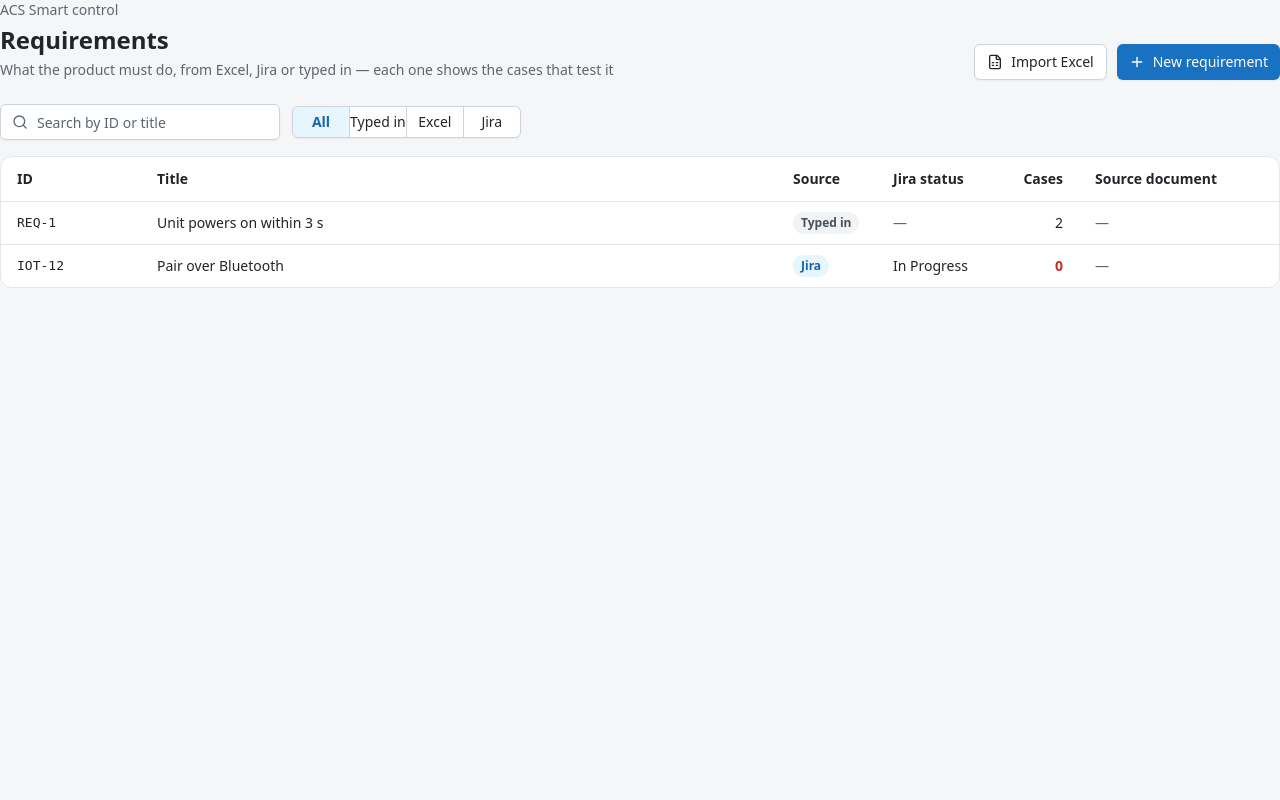
Test: Requirements page › opens the details with the cases that test the requirement
Click the text "REQ-1".
click(37, 223)  # box x1=17 y1=215 x2=56 y2=230
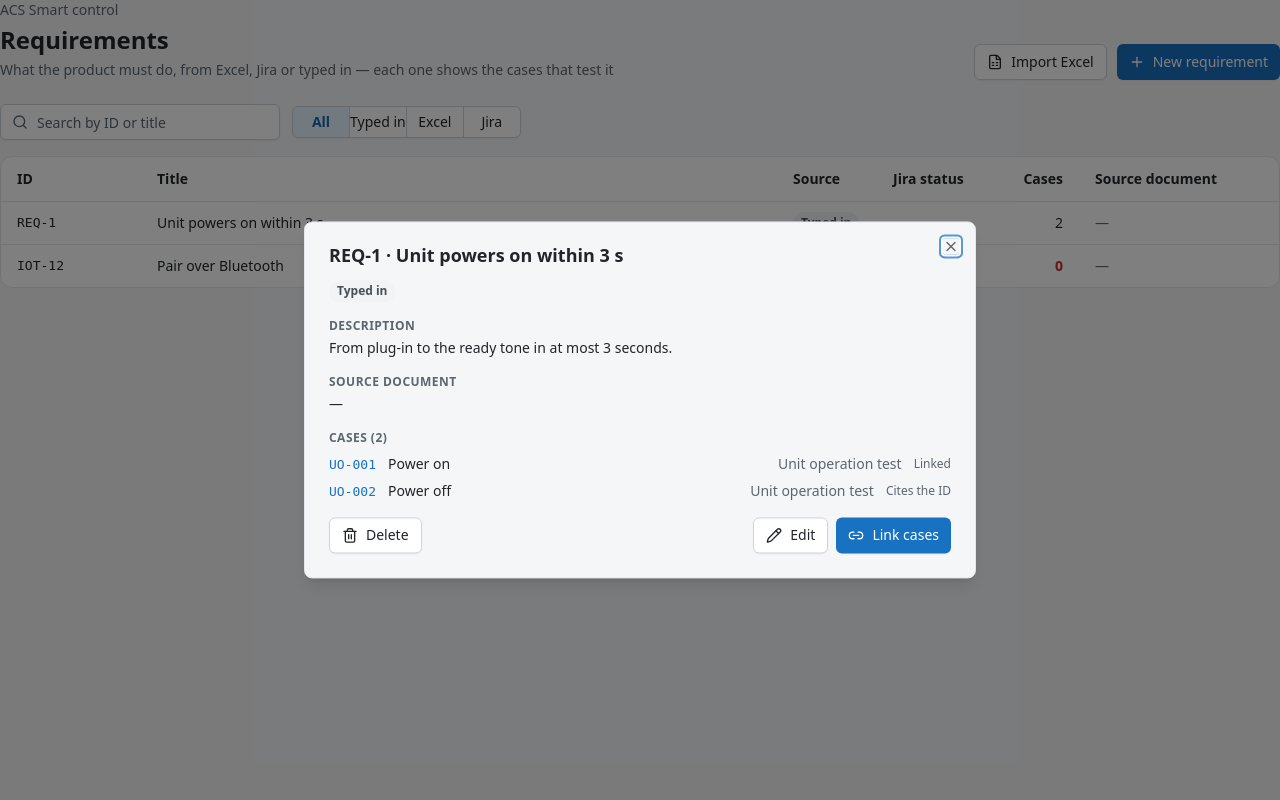
Expected: the text "From plug-in to the ready tone in at most 3 seconds." is shown, x1=329 y1=338 x2=672 y2=357
Expected: the list named "Cases of REQ-1" shows "Linked", x1=914 y1=456 x2=951 y2=473
Expected: the list named "Cases of REQ-1" shows "Cites the ID", x1=886 y1=482 x2=951 y2=499
